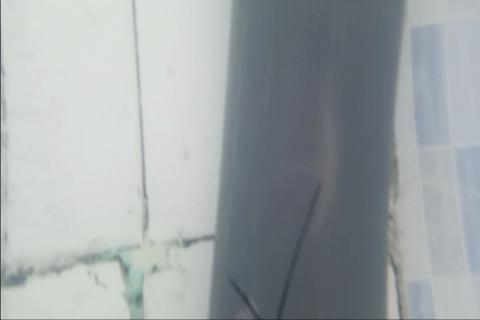keretakan: (273, 177, 325, 319), (226, 269, 262, 319)
